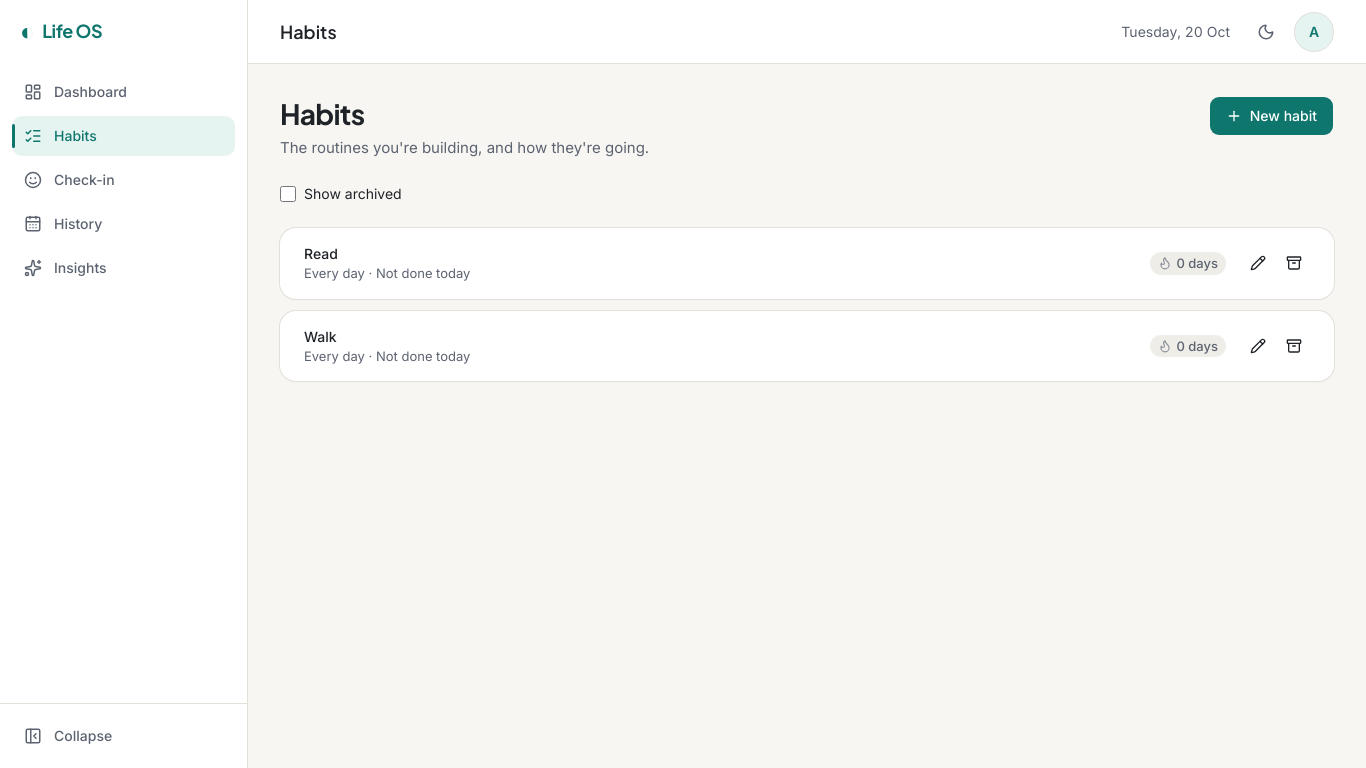
Test: HabitsPage › archives a habit after confirmation
This screenshot has width=1366, height=768.
Click the button named "Archive Read".
click(1294, 263)  # box [1278, 247, 1310, 279]
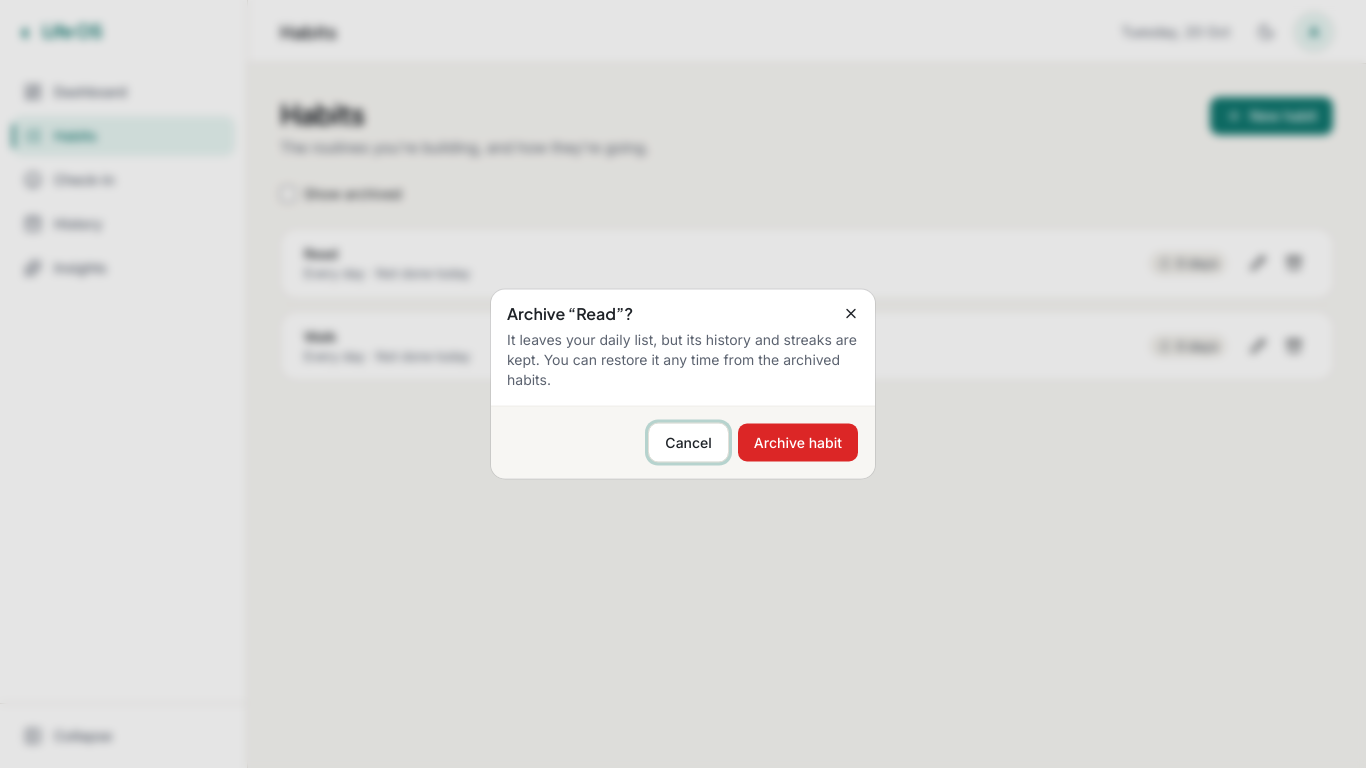
Expected: the dialog "Archive “Read”?" shows "history and streaks are kept", [507, 330, 857, 388]
Click the button "Archive habit".
click(798, 442)  # box [737, 422, 859, 462]
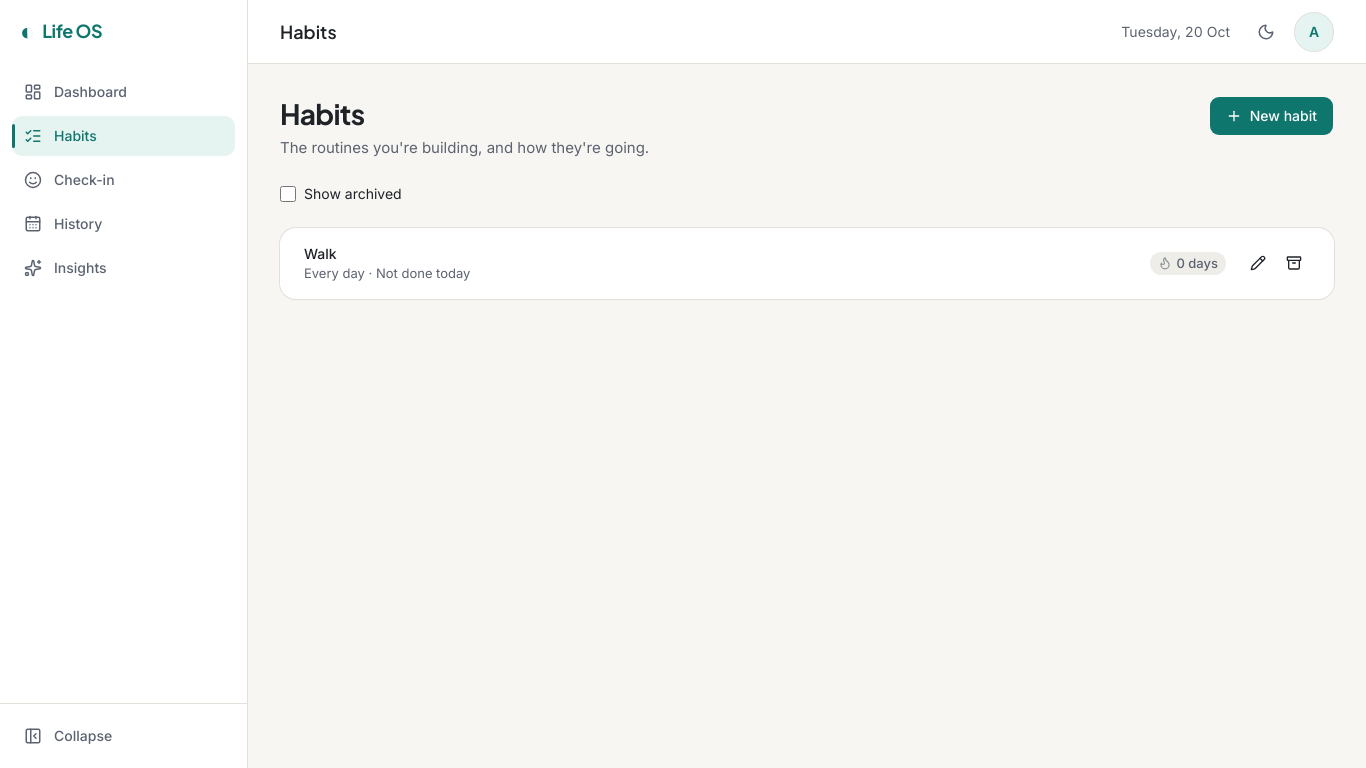
Expected: the text "Walk" is shown, [304, 244, 337, 264]
Expected: the link "Read" is gone
